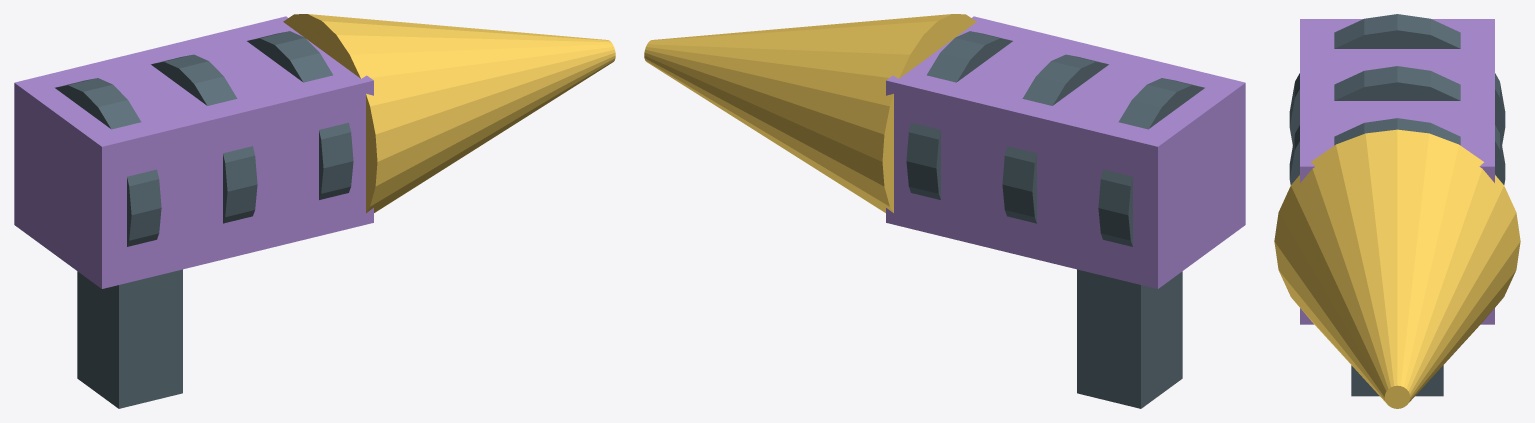
File: bp_weapondrill.glb
3 renders of one model, left to right at view 1: azimuth 30°, elevation 25°; view 2: azimuth 150°, elevation 25°; view 3: azimuth 270°, elevation 25°, orthographic. The views are drawn at different scales.
Visible parts, largest first — view 1: DrillBody, DrillBit, Grip.004, MotorRing.001, MotorRing, MotorRing.002; view 2: DrillBody, DrillBit, Grip.004, MotorRing.001, MotorRing, MotorRing.002; view 3: DrillBit, DrillBody, MotorRing, MotorRing.001, MotorRing.002, Grip.004.
Boxes of the visible parts, x1,y1,x2,y2 form: DrillBody: (14,16,373,288); DrillBit: (283,14,615,212); Grip.004: (77,269,182,408); MotorRing.001: (151,54,257,223); MotorRing: (55,78,161,246); MotorRing.002: (247,31,353,199); DrillBody: (886,16,1245,288); DrillBit: (644,14,976,212); Grip.004: (1077,269,1182,408); MotorRing.001: (1002,54,1108,223); MotorRing: (1098,78,1204,246); MotorRing.002: (906,31,1012,199); DrillBit: (1274,129,1520,408); DrillBody: (1300,19,1494,324); MotorRing: (1289,14,1505,145); MotorRing.001: (1289,66,1505,184); MotorRing.002: (1334,118,1460,145); Grip.004: (1351,365,1443,396).
Size of the model in its own units: 1.38 by 0.76 by 0.48.
